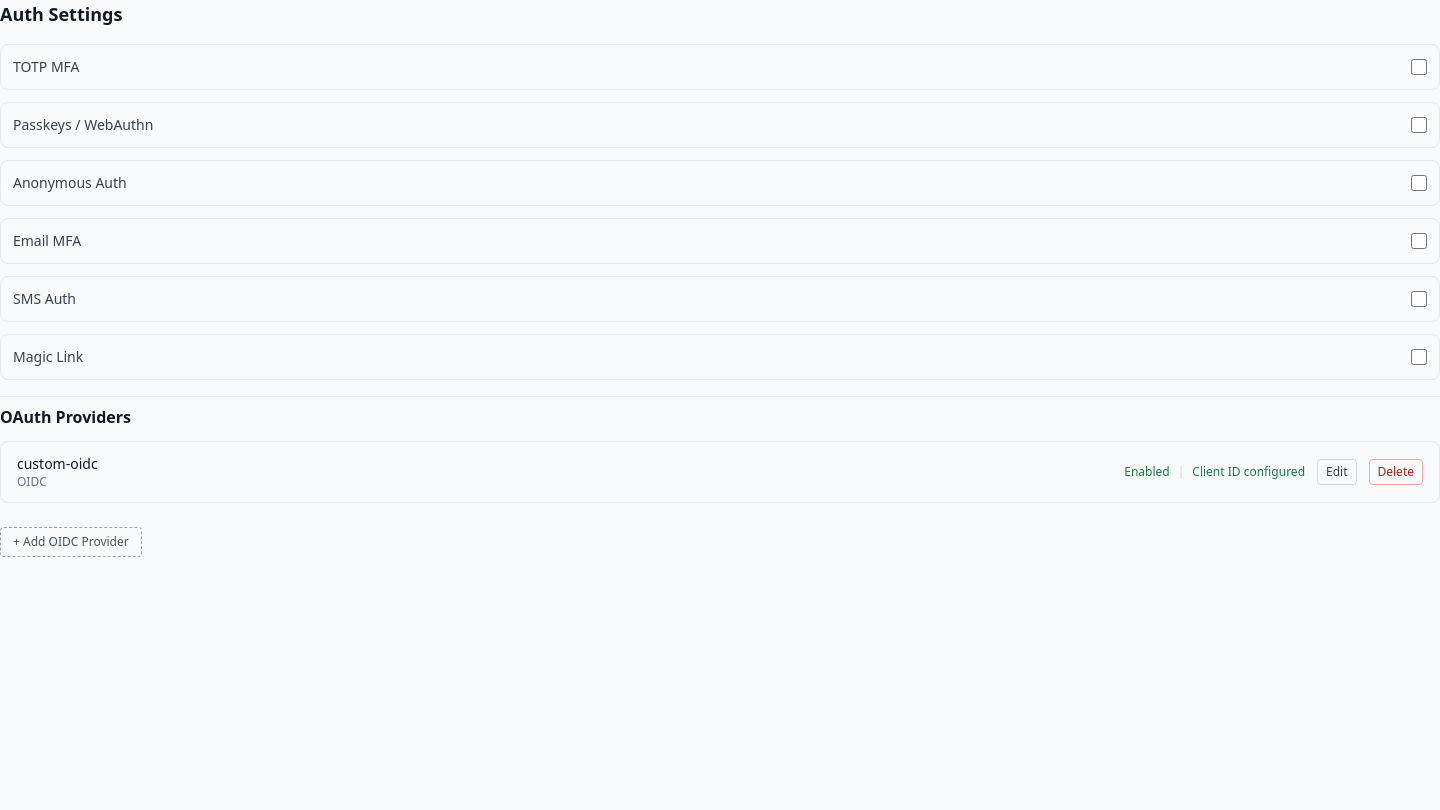
Scenario: AuthSettings OIDC deletion › confirm delete shows transient deleting state while request is in flight
The width and height of the screenshot is (1440, 810).
Step 1. Click the button with test id "provider-delete-custom-oidc" → click(1396, 472), box [1368, 459, 1423, 485]
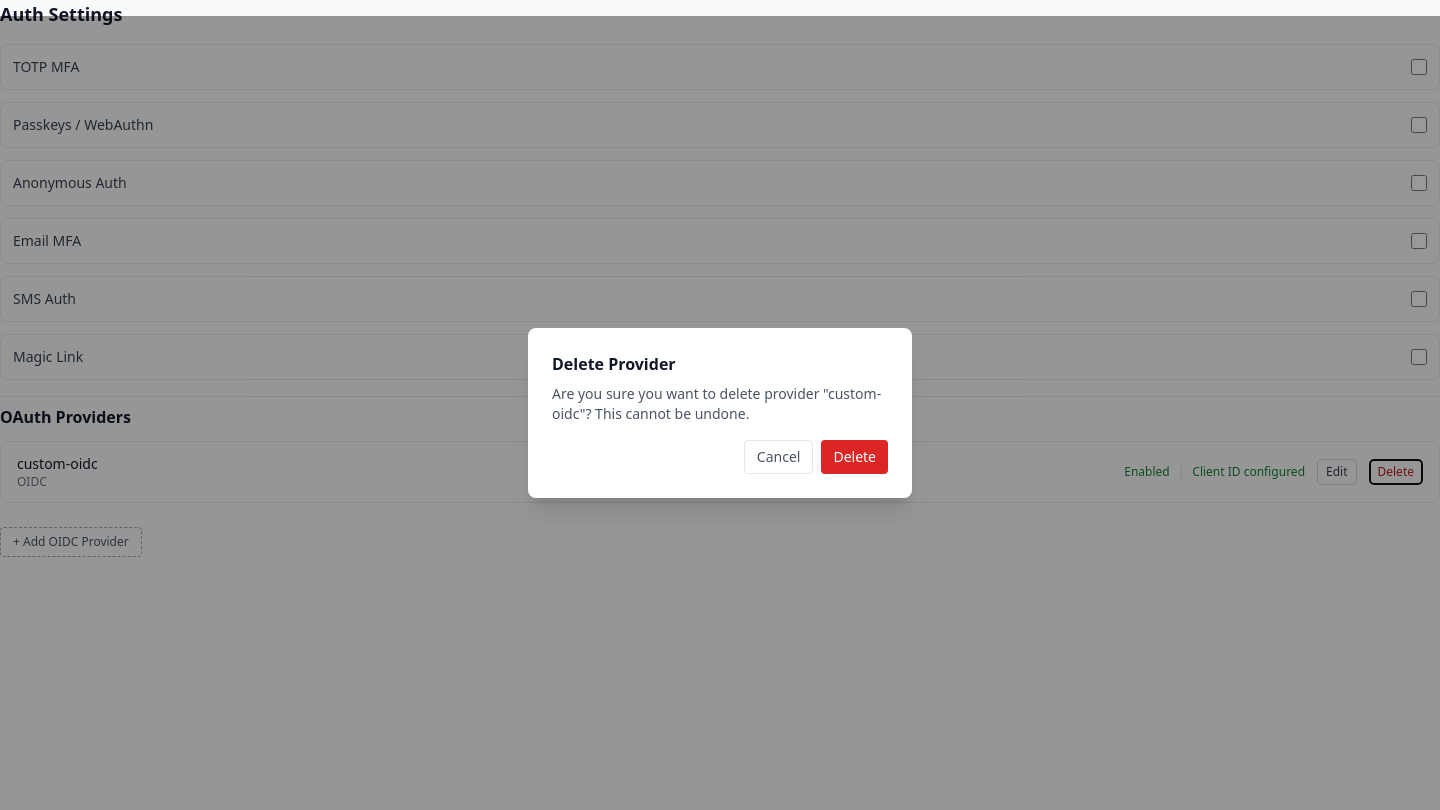
Step 2. Click the button "Delete" → click(855, 457), box [821, 440, 888, 474]
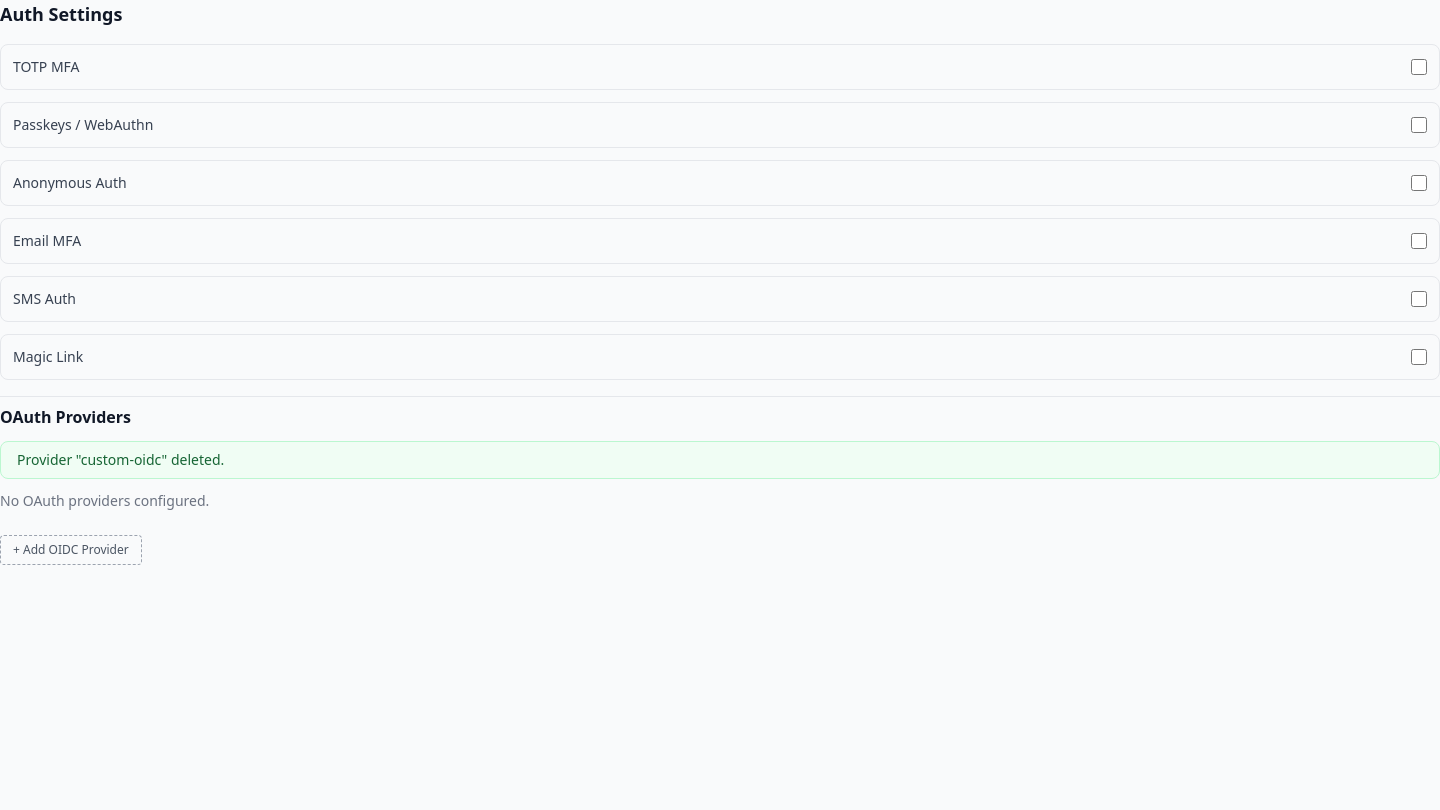
Now the dialog is gone
Now the element with test id "provider-row-custom-oidc" is gone
